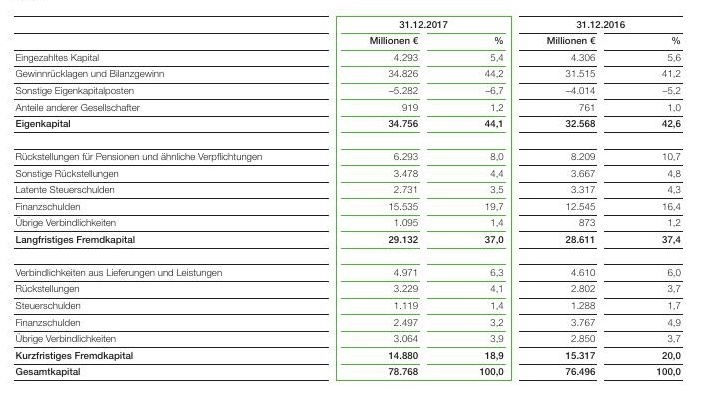table: (0, 0, 702, 396)
